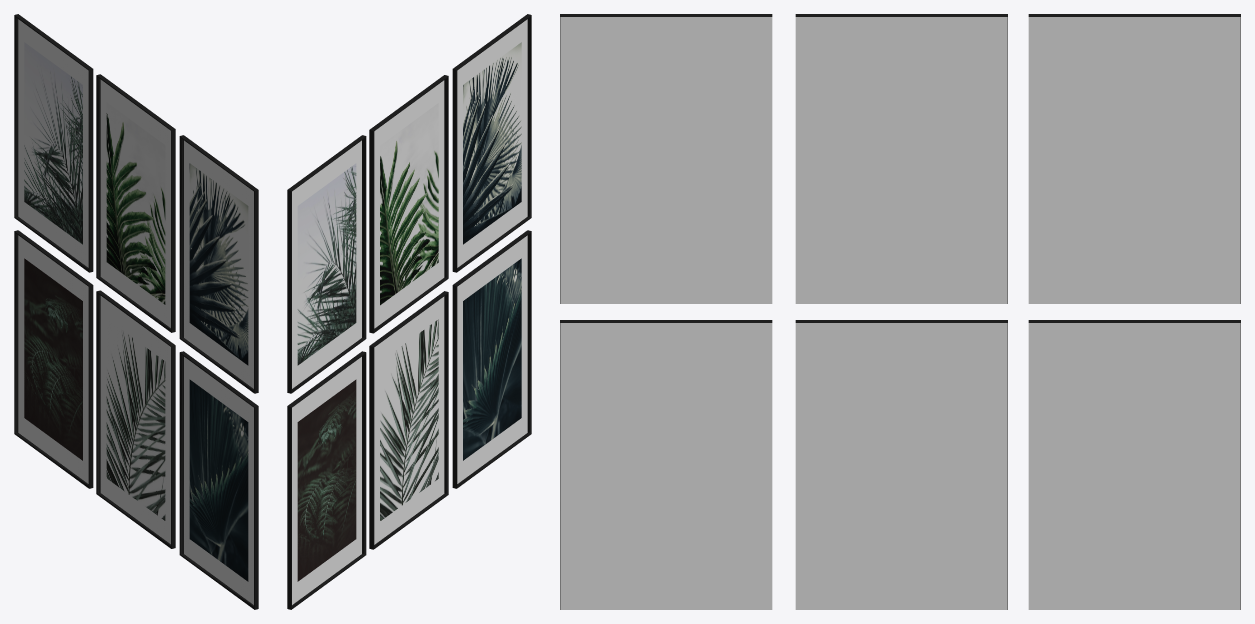
Rendered from Frames_Without_Glass.glb.
3 renders of one model, left to right at view 1: azimuth 30°, elevation 25°; view 2: azimuth 150°, elevation 25°; view 3: azimuth 270°, elevation 25°, orthographic. The views are drawn at different scales.
Parts seen in each view (by area): view 1: Frames; view 2: Frames; view 3: Frames.
Part boxes in pixels (x1,y1,x2,y2): Frames: (14,14,258,609); Frames: (287,14,531,609); Frames: (560,14,1240,609).
Size of the model in its own units: 0.017 by 1.6 by 1.66.
Materials: 8 (6 with a texture image).
